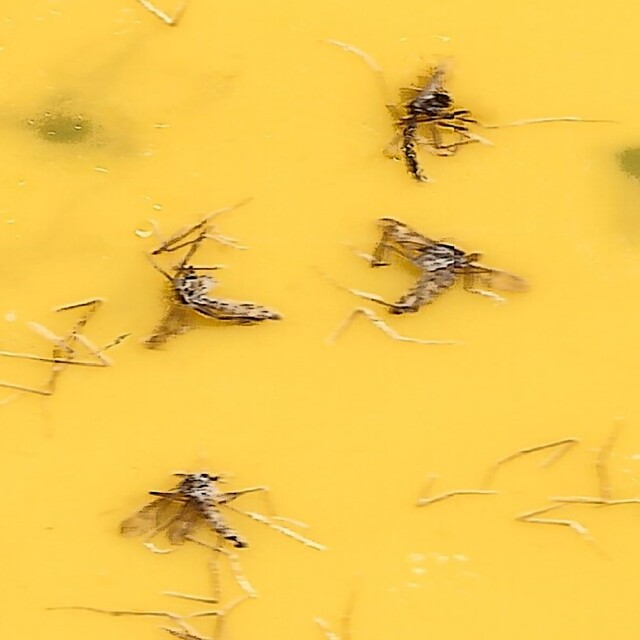Nematocera: (364, 210, 525, 316), (142, 258, 287, 358), (115, 468, 257, 561), (393, 79, 476, 182)
